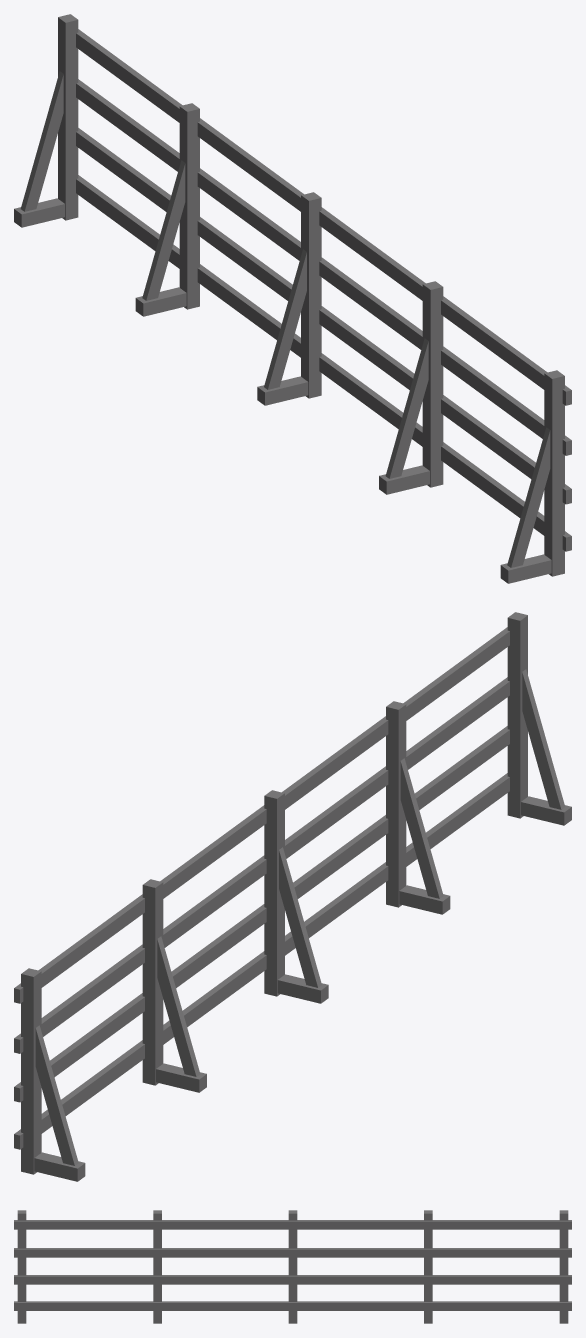
Rendered from SM_billboardStand_02_small.gltf.
3 views of the same model, one above another, from view 1: azimuth 30°, elevation 25°; view 2: azimuth 150°, elevation 25°; view 3: azimuth 270°, elevation 25° (orthographic). The views are drawn at different scales.
Visible parts, largest first — view 1: SM_billboardStand_02_small; view 2: SM_billboardStand_02_small; view 3: SM_billboardStand_02_small.
Boxes of the visible parts, x1,y1,x2,y2 form: SM_billboardStand_02_small: (14, 14, 571, 583); SM_billboardStand_02_small: (14, 612, 571, 1181); SM_billboardStand_02_small: (14, 1210, 571, 1323).
Bounding box in the file's own units: 0.2864 × 0.8969 × 4.12.
1 material, 1 textured.
